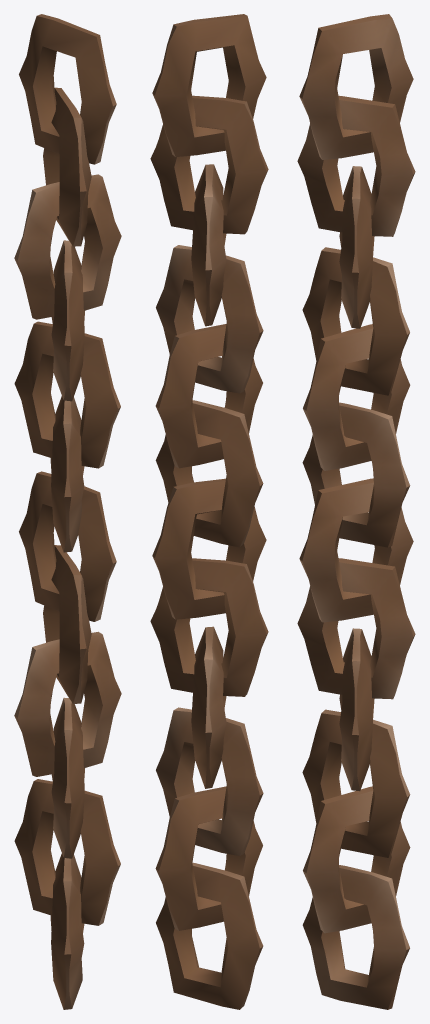
Rendered from SM_Potion_Props_Chain_A_01.fbx.
The picture shows the model from 3 angles, left to right: view 1: azimuth 90°, elevation 25°; view 2: azimuth 150°, elevation 25°; view 3: azimuth 330°, elevation 25°; orthographic projection.
Parts seen in each view (by area): view 1: SM_Potion_Props_Chain_A_01_LOD0; view 2: SM_Potion_Props_Chain_A_01_LOD0; view 3: SM_Potion_Props_Chain_A_01_LOD0.
Boxes of the visible parts, bbox=[...] form: SM_Potion_Props_Chain_A_01_LOD0: bbox=[14, 14, 121, 1009]; SM_Potion_Props_Chain_A_01_LOD0: bbox=[150, 14, 268, 1009]; SM_Potion_Props_Chain_A_01_LOD0: bbox=[297, 14, 415, 1009].
Size of what is drawn, in the model's own units: 11.1 by 99.78 by 9.99.
